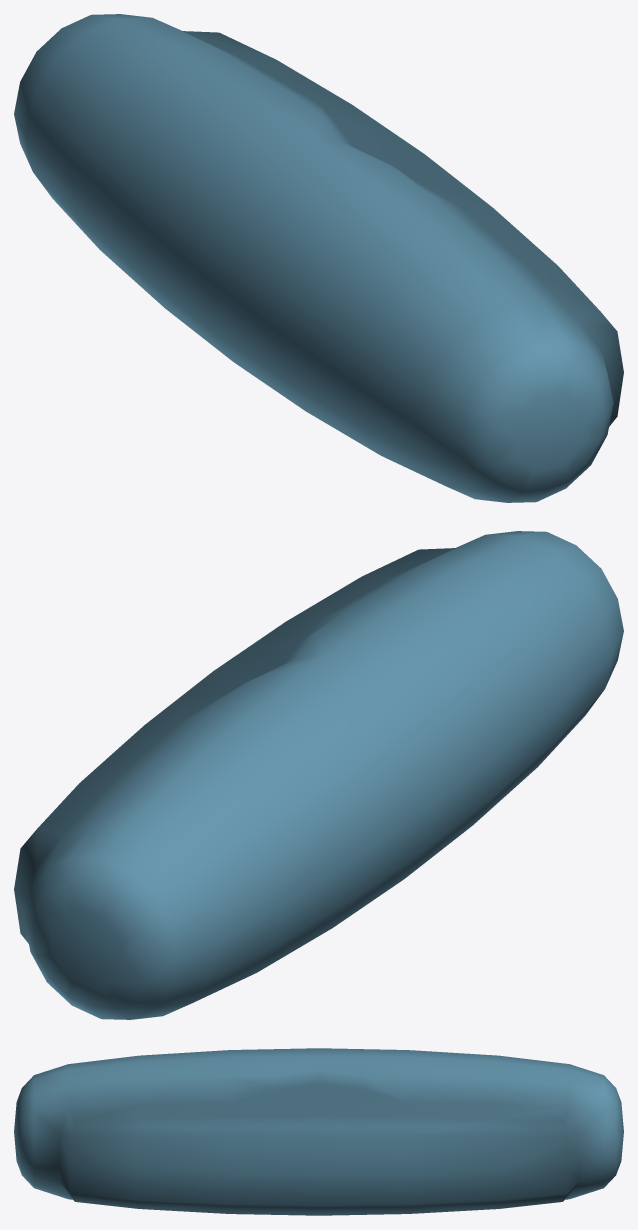
File: microscopic-plankton-rod-diatom_v1.glb
3 views of the same model, one above another, from view 1: azimuth 30°, elevation 25°; view 2: azimuth 150°, elevation 25°; view 3: azimuth 270°, elevation 25° (orthographic). The views are drawn at different scales.
Visible parts, largest first — view 1: Rod Diatom; view 2: Rod Diatom; view 3: Rod Diatom.
Boxes of the visible parts, x1,y1,x2,y2 form: Rod Diatom: [14, 14, 623, 502]; Rod Diatom: [14, 531, 623, 1019]; Rod Diatom: [14, 1048, 623, 1215].
Size of the model in its own units: 0.151 by 0.1374 by 0.5.
